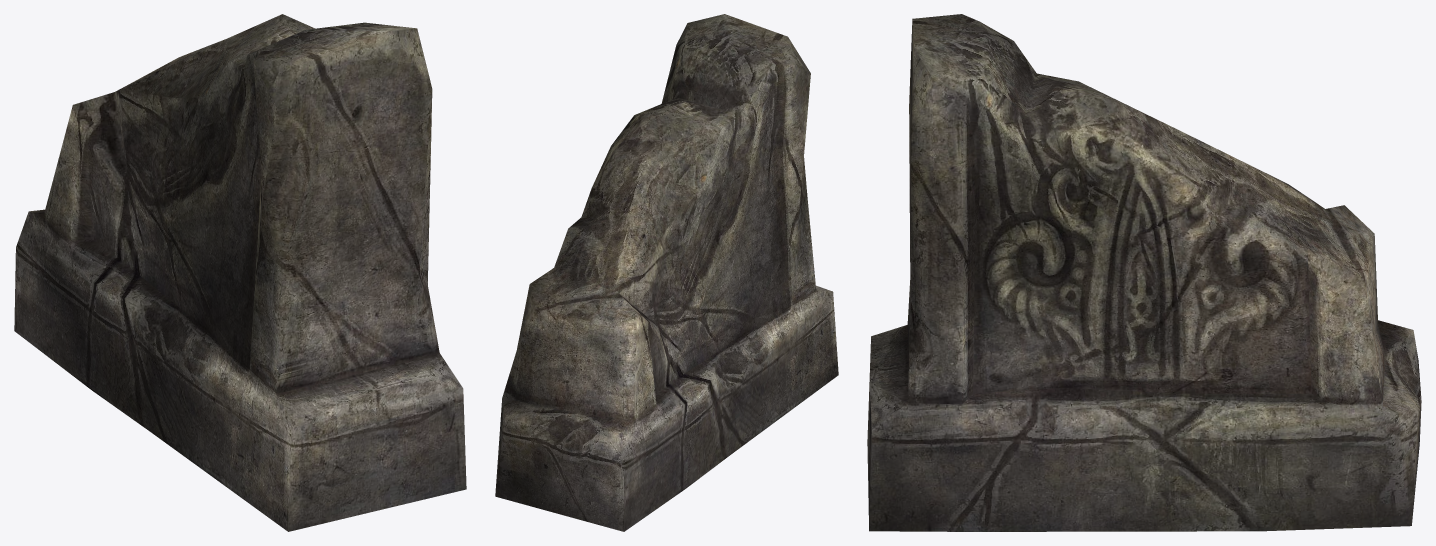
File: slab.glb
The picture shows the model from 3 angles, left to right: view 1: azimuth 30°, elevation 25°; view 2: azimuth 150°, elevation 25°; view 3: azimuth 270°, elevation 25°; orthographic projection. The views are drawn at different scales.
Parts seen in each view (by area): view 1: LOD0; view 2: LOD0; view 3: LOD0.
Part boxes in pixels (x1,y1,x2,y2): LOD0: (14, 14, 466, 531); LOD0: (495, 14, 838, 531); LOD0: (867, 14, 1421, 531).
Bounding box in the file's own units: 0.8973 × 2.14 × 2.35.
1 material, 1 textured.
